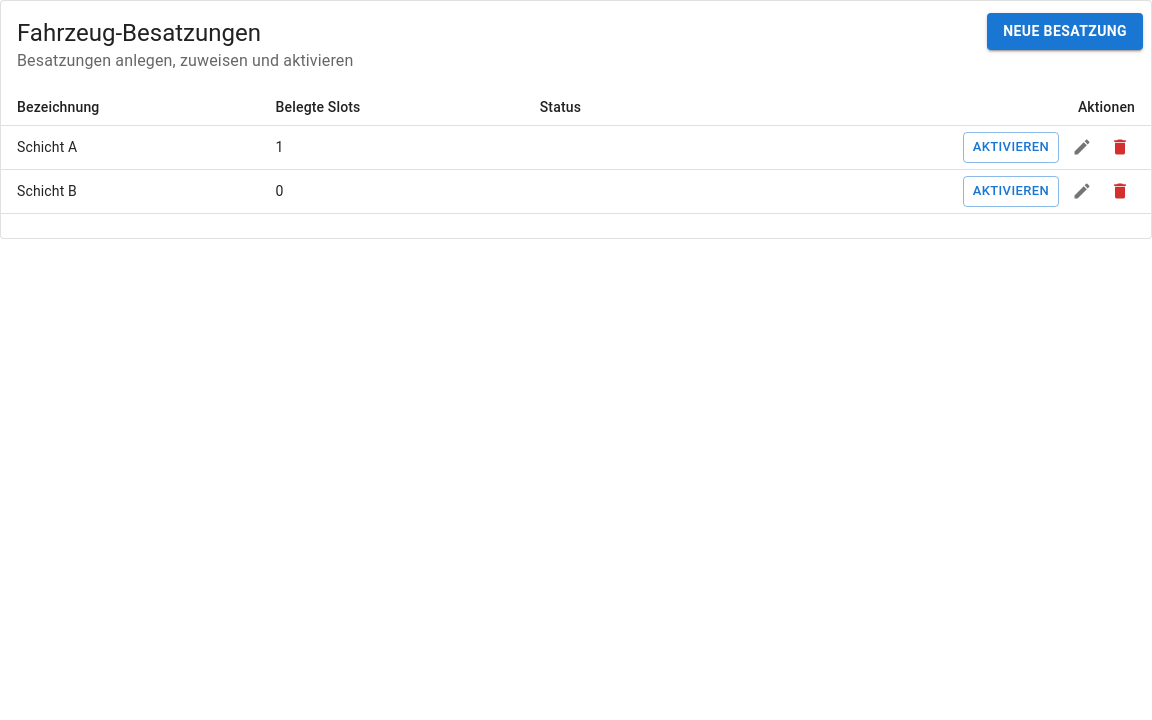
it: RosterManager › opens create dialog when "Neue Besatzung" is clicked
Click the button "Neue Besatzung": coordinates (1065, 31) [987,13,1143,50]
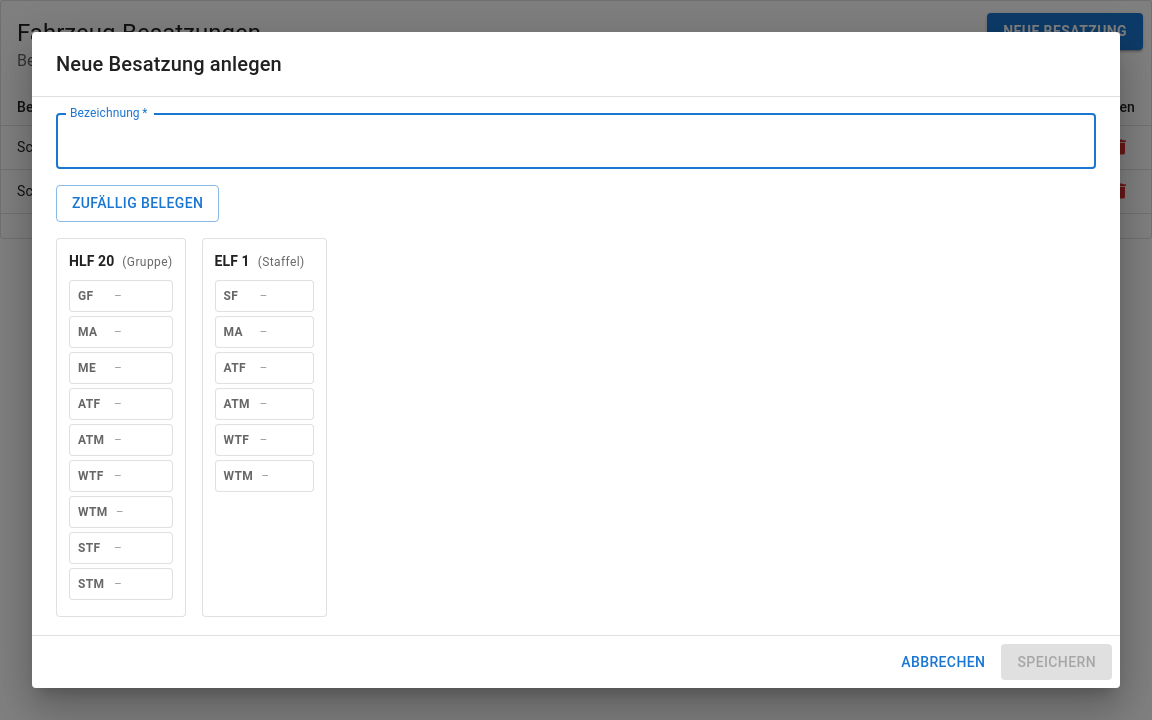
Expected: the heading "Neue Besatzung anlegen" is shown, [56,52,282,76]
